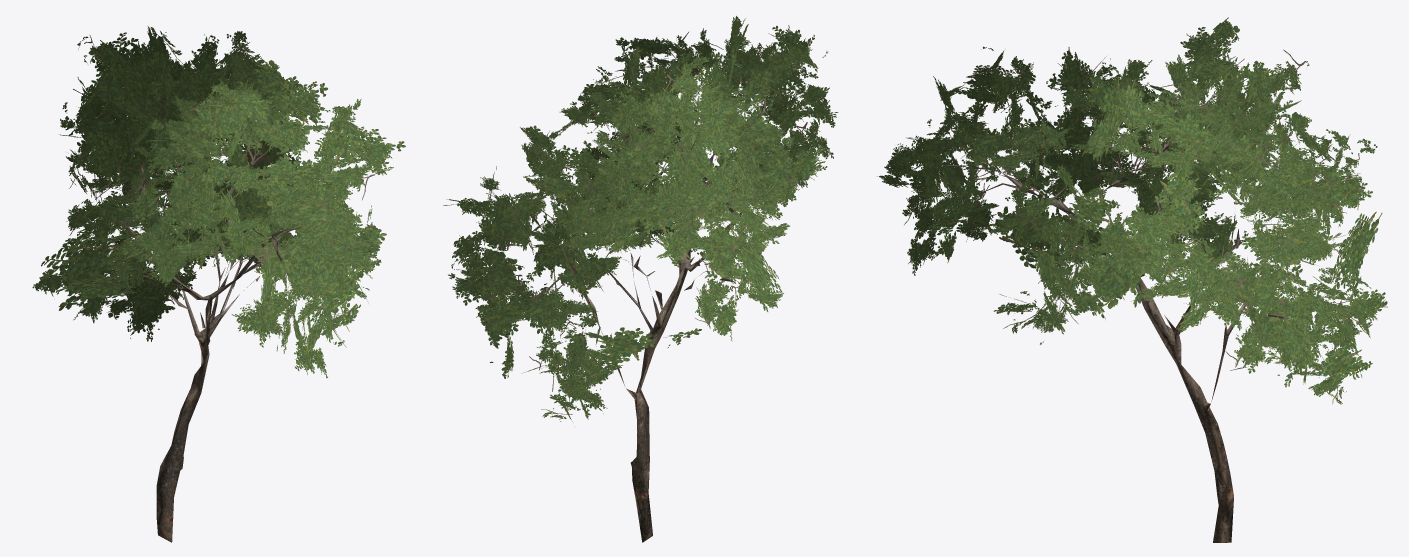
3 renders of one model, left to right at view 1: azimuth 30°, elevation 25°; view 2: azimuth 150°, elevation 25°; view 3: azimuth 270°, elevation 25°, orthographic. The views are drawn at different scales.
Parts seen in each view (by area): view 1: tree_small_02_lod2; view 2: tree_small_02_lod2; view 3: tree_small_02_lod2.
Boxes of the visible parts, left/top/right/bottom form: tree_small_02_lod2: left=32, top=26, right=405, bottom=542; tree_small_02_lod2: left=443, top=16, right=838, bottom=542; tree_small_02_lod2: left=877, top=17, right=1387, bottom=542.
Size of the model in its own units: 3.21 by 4.68 by 4.45.
3 materials, 3 textured.
